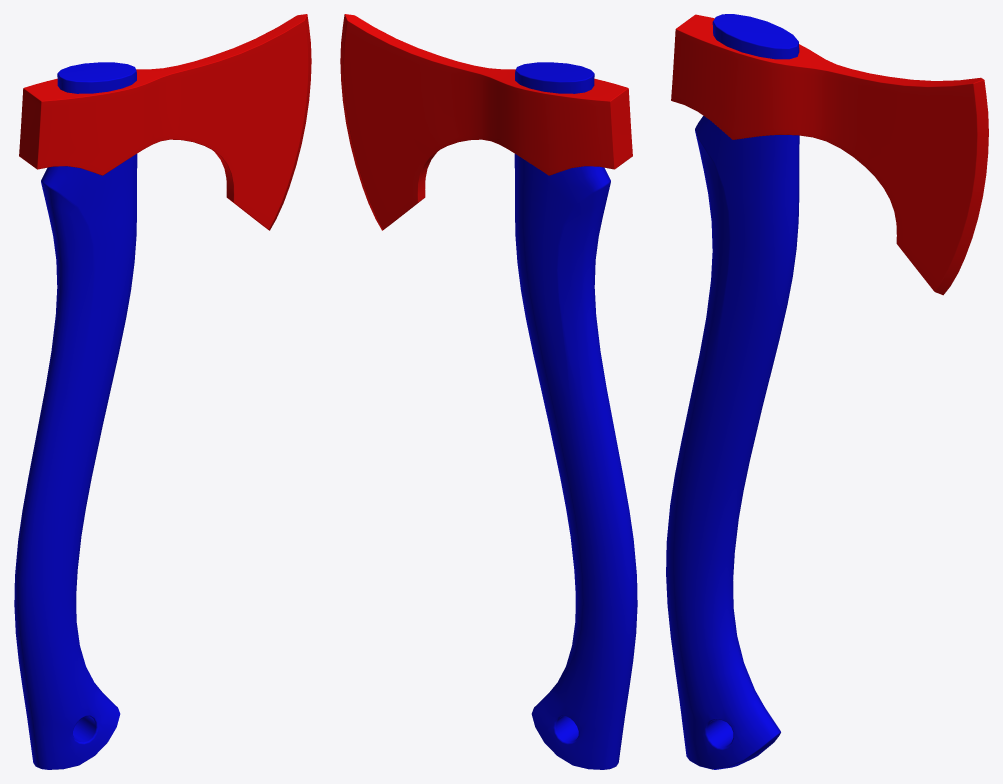
3 renders of one model, left to right at view 1: azimuth 30°, elevation 25°; view 2: azimuth 150°, elevation 25°; view 3: azimuth 330°, elevation 25°, orthographic. The views are drawn at different scales.
Parts seen in each view (by area): view 1: handle1; view 2: handle1; view 3: handle1.
Boxes of the visible parts, x1,y1,x2,y2 form: handle1: (14, 14, 311, 769); handle1: (340, 14, 637, 769); handle1: (666, 14, 988, 769).
Bounding box in the file's own units: 3.1 × 6.94 × 0.495.
